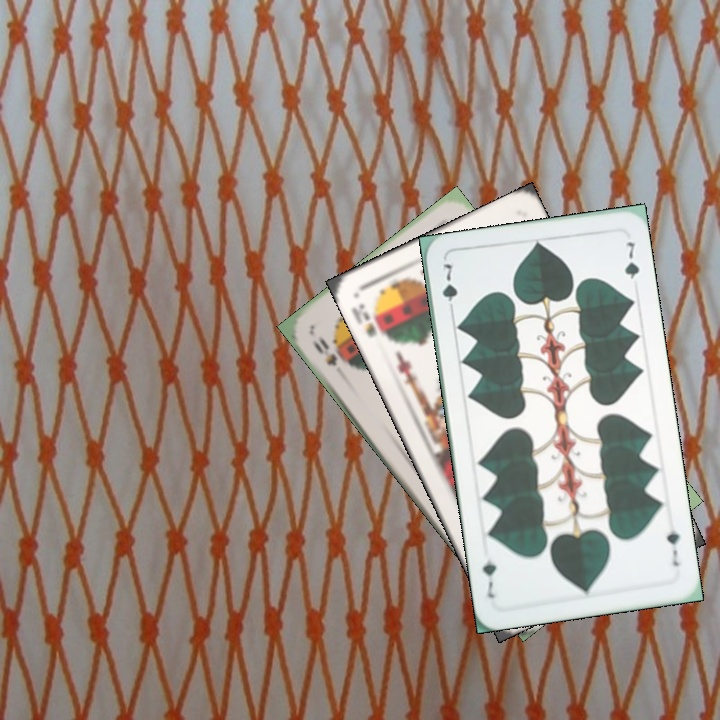G7: (438, 259, 460, 317), (662, 526, 682, 569)
SK: (347, 299, 380, 340)
SO: (308, 331, 349, 369)
